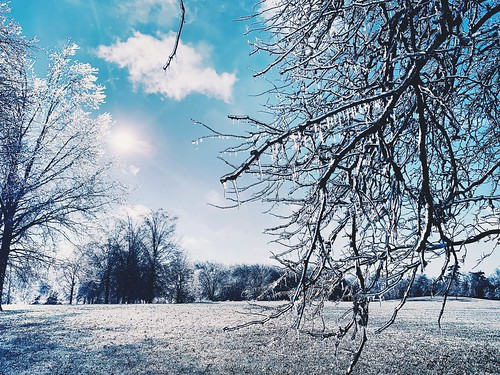grass: (22, 311, 500, 375)
sky: (31, 1, 426, 210)
tree: (310, 1, 500, 285), (1, 25, 106, 306), (125, 206, 171, 303), (80, 224, 123, 305)
vegetation: (186, 269, 500, 307)
